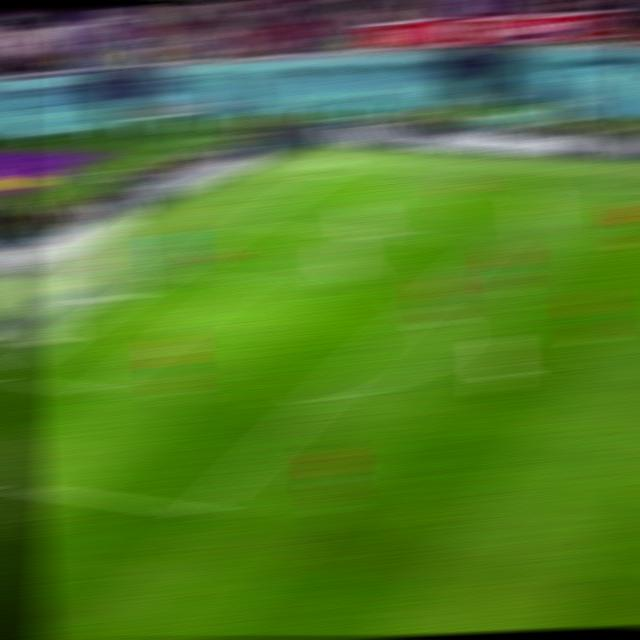bigarea_bottom_inner: (177, 498, 219, 523)
bigarea_top_inner: (472, 233, 509, 250)
bigarea_top_outter: (229, 214, 266, 230)
bottom_arc_area_intersection: (300, 389, 337, 408)
corner: (310, 167, 347, 179)
smallarea_bottom_inner: (75, 376, 117, 401)
smallarea_top_inner: (230, 270, 270, 290)
smallarea_top_outter: (153, 265, 188, 280)
top_arc_area_intersection: (401, 295, 439, 314)
